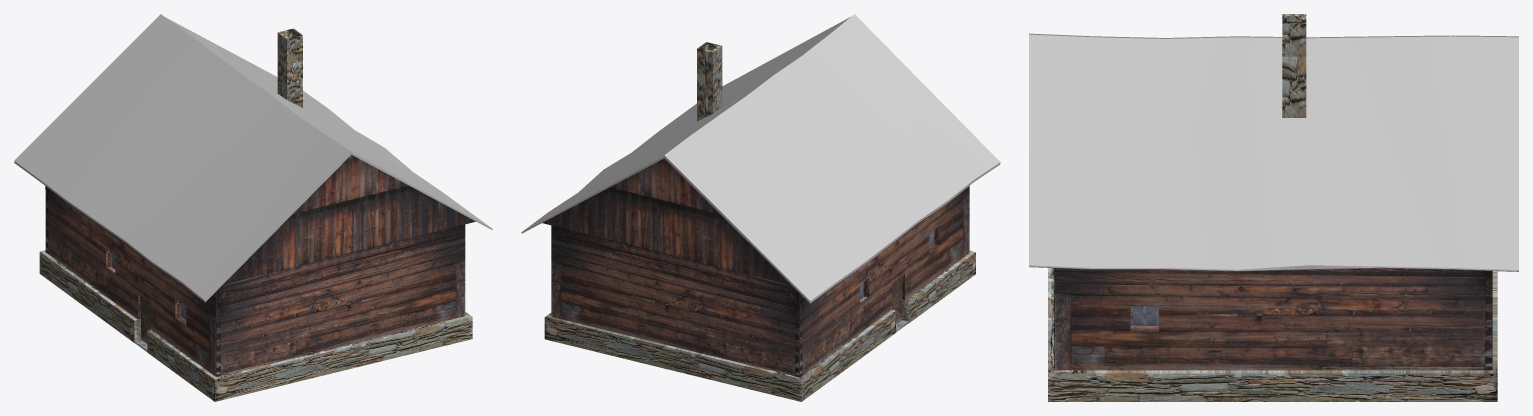
File: Haus_06_FBX.FBX
3 views of the same model, side by side, from view 1: azimuth 30°, elevation 25°; view 2: azimuth 150°, elevation 25°; view 3: azimuth 270°, elevation 25° (orthographic). The views are drawn at different scales.
Visible parts, largest first — view 1: Line009, Line008, Shape003, Line011, Box005, Box007, Tube002; view 2: Line009, Line012, Shape004, Line011, Box006, Box007, Tube002, Tuer001; view 3: Line009, Line013, Box008, Tube002, Box005, Box006, Plane007.
Boxes of the visible parts, bbox=[...] form: Line009: bbox=[14, 14, 492, 302]; Line008: bbox=[216, 224, 465, 376]; Shape003: bbox=[223, 155, 475, 284]; Line011: bbox=[45, 186, 216, 376]; Box005: bbox=[200, 317, 472, 401]; Box007: bbox=[39, 251, 240, 401]; Tube002: bbox=[277, 28, 302, 107]; Line009: bbox=[521, 14, 1000, 303]; Line012: bbox=[551, 225, 799, 377]; Shape004: bbox=[542, 158, 791, 285]; Line011: bbox=[799, 186, 969, 376]; Box006: bbox=[545, 317, 801, 401]; Box007: bbox=[776, 250, 975, 401]; Tube002: bbox=[697, 42, 722, 121]; Tuer001: bbox=[892, 276, 902, 324]; Line009: bbox=[1029, 33, 1518, 271]; Line013: bbox=[1055, 268, 1492, 370]; Box008: bbox=[1048, 362, 1497, 401]; Tube002: bbox=[1282, 14, 1306, 117]; Box005: bbox=[1048, 268, 1086, 373]; Box006: bbox=[1464, 271, 1497, 401]; Plane007: bbox=[1130, 306, 1158, 325].
Size of the model in its own units: 1229 by 1034 by 1395.
